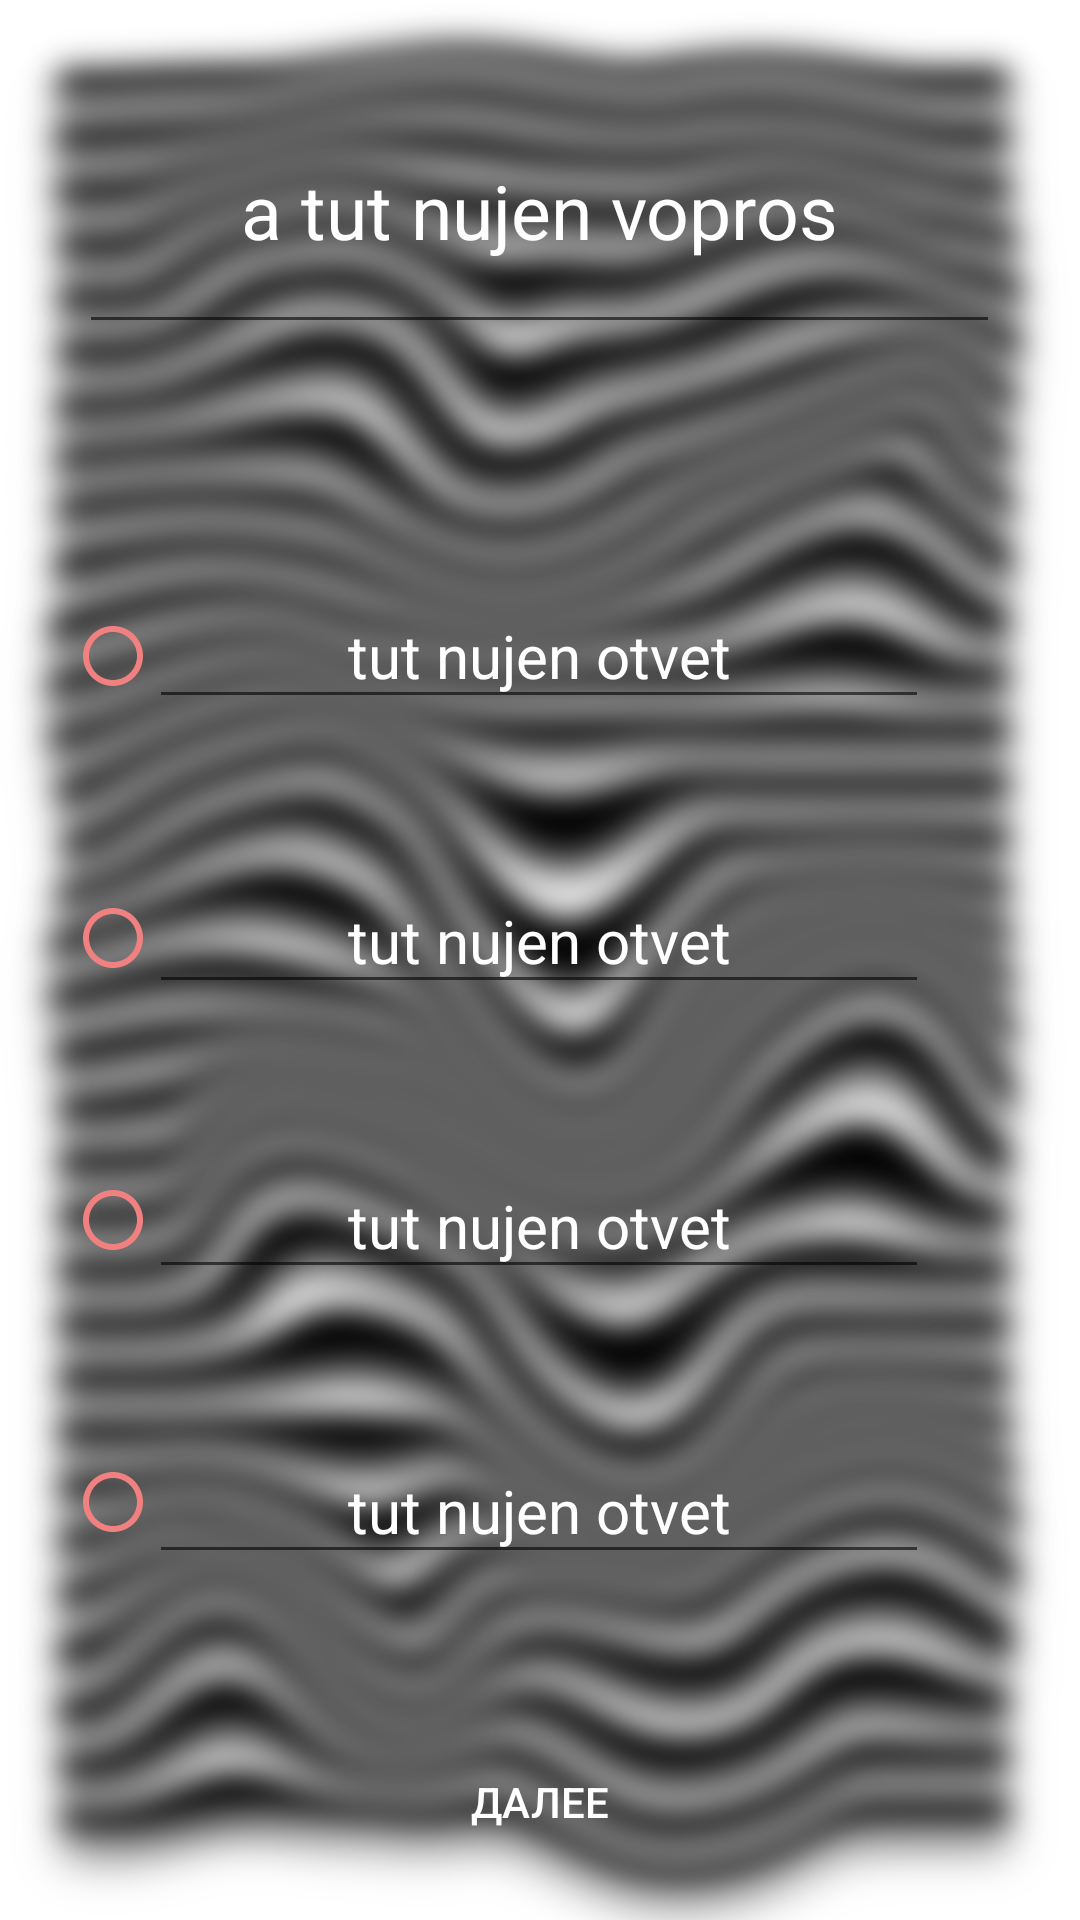

Icons on this 1080w x 1920h Android screen, each with the point to tap as [x,y]:
checkboxstyle: [113,656], [113,938], [114,1223], [110,1499]
